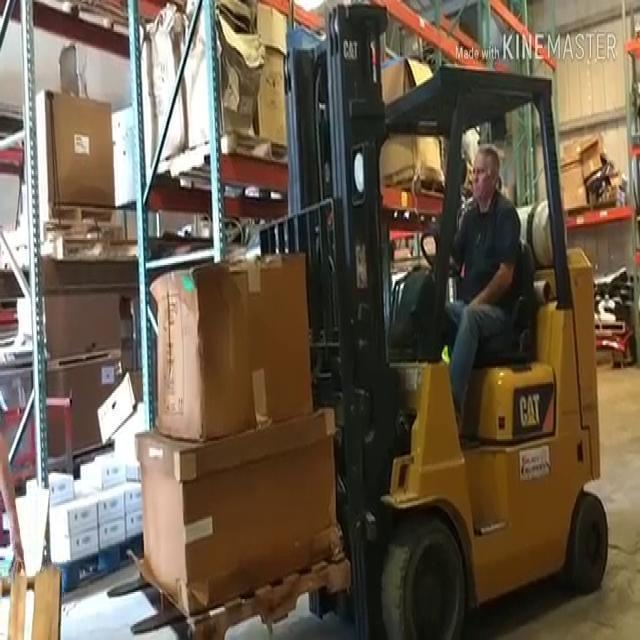forklift: (289, 55, 611, 640)
